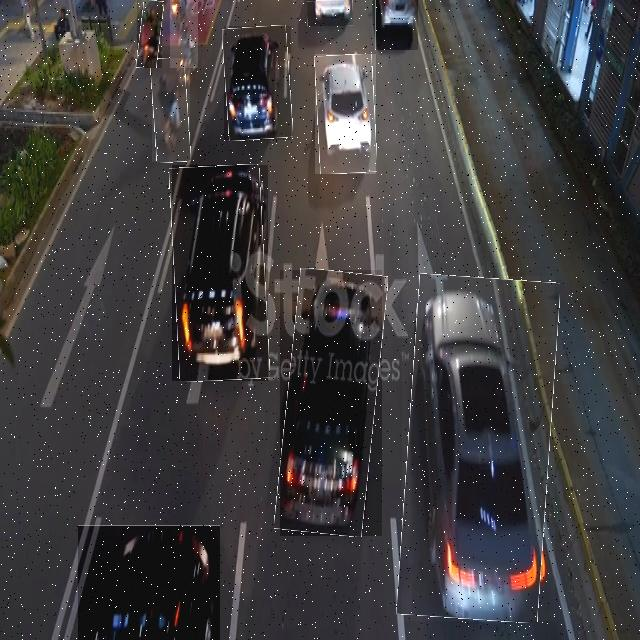Car: (402, 276, 555, 621), (280, 270, 382, 536), (172, 165, 268, 381), (78, 525, 220, 640), (224, 26, 291, 140), (315, 54, 376, 174), (375, 0, 418, 50), (307, 0, 353, 26)
Motorcycle: (152, 58, 190, 162), (170, 0, 198, 68), (137, 0, 162, 68)
